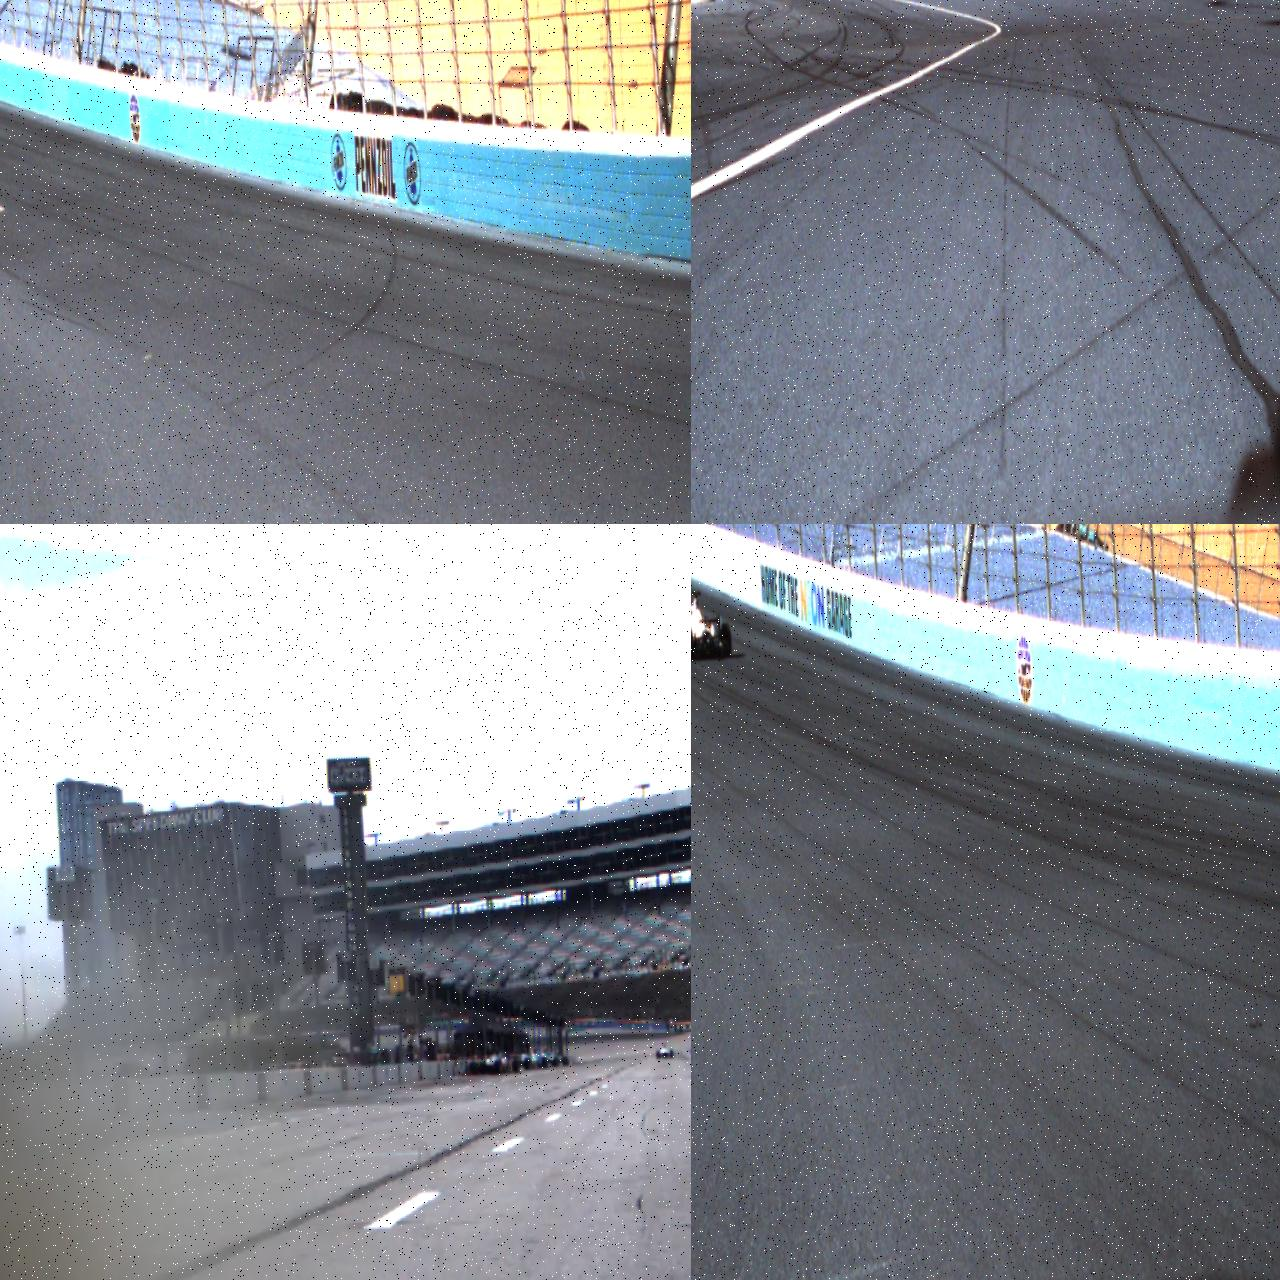AV: (692, 588, 731, 662), (655, 1042, 674, 1058)
Wheel: (719, 622, 731, 658), (493, 1057, 503, 1074), (511, 1057, 519, 1073), (523, 1056, 530, 1070), (469, 1062, 477, 1074), (561, 1056, 568, 1067), (542, 1056, 547, 1068), (551, 1056, 558, 1065), (655, 1049, 660, 1058), (670, 1049, 673, 1057)
